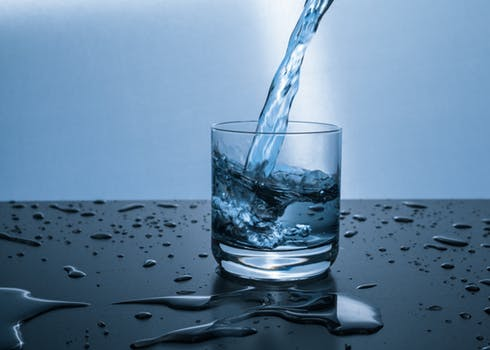glass of water: (207, 118, 343, 277)
